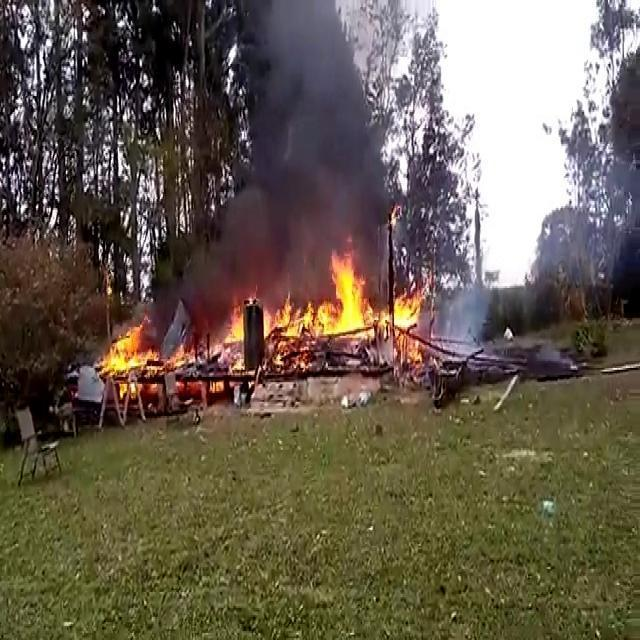Fire: (312, 248, 434, 358), (230, 299, 327, 367), (104, 316, 174, 404)
Smoke: (206, 0, 397, 304)
